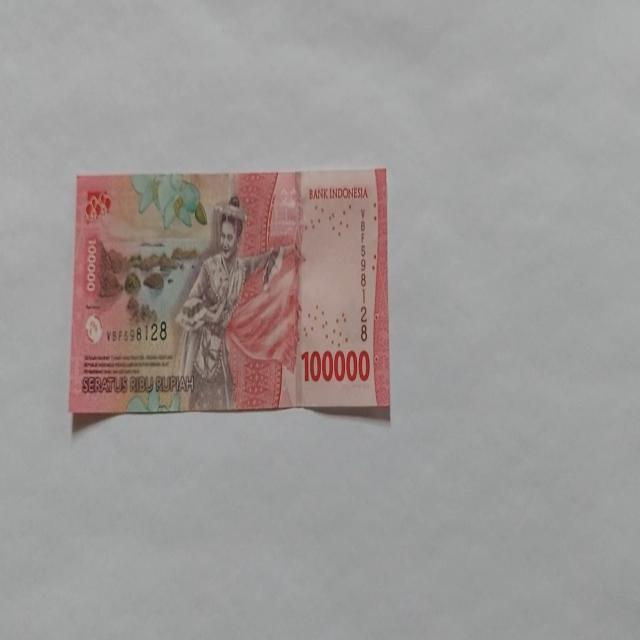seratus ribu rupiah: (68, 168, 390, 417), (171, 194, 287, 410)
